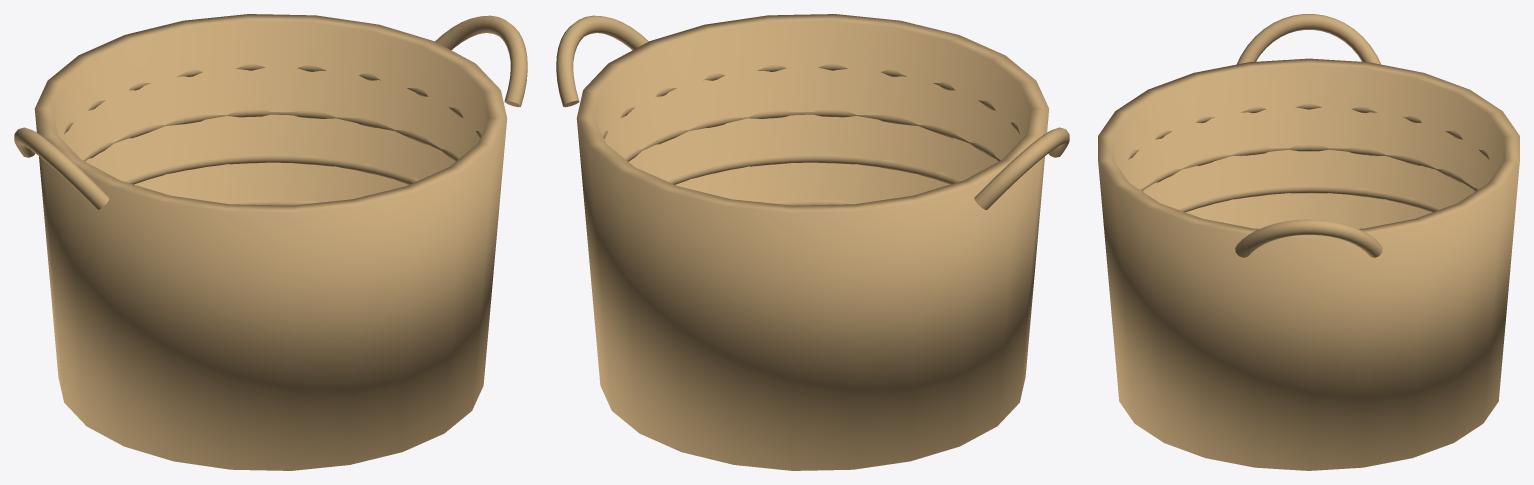
File: i_basket_0.glb
3 views of the same model, side by side, from view 1: azimuth 30°, elevation 25°; view 2: azimuth 150°, elevation 25°; view 3: azimuth 270°, elevation 25° (orthographic). The views are drawn at different scales.
Visible parts, largest first — view 1: o, o.007, o.003, o.006, o.004, o.005; view 2: o, o.007, o.003, o.006, o.004, o.005; view 3: o, o.006, o.007, o.003, o.004, o.005.
Part boxes in pixels (x1=…): o: x1=34, y1=14, x2=507, y2=470; o.007: x1=435, y1=15, x2=527, y2=107; o.003: x1=124, y1=154, x2=418, y2=184; o.006: x1=14, y1=127, x2=109, y2=209; o.004: x1=83, y1=109, x2=459, y2=161; o.005: x1=64, y1=63, x2=481, y2=138; o: x1=576, y1=14, x2=1049, y2=470; o.007: x1=556, y1=15, x2=648, y2=107; o.003: x1=665, y1=154, x2=959, y2=184; o.006: x1=974, y1=127, x2=1069, y2=209; o.004: x1=624, y1=109, x2=1000, y2=161; o.005: x1=602, y1=63, x2=1019, y2=138; o: x1=1098, y1=58, x2=1519, y2=470; o.006: x1=1236, y1=14, x2=1381, y2=64; o.007: x1=1235, y1=219, x2=1382, y2=257; o.003: x1=1177, y1=185, x2=1440, y2=212; o.004: x1=1139, y1=144, x2=1478, y2=191; o.005: x1=1128, y1=103, x2=1489, y2=159.
Bounding box in the file's own units: 0.3767 × 0.2258 × 0.3167.
